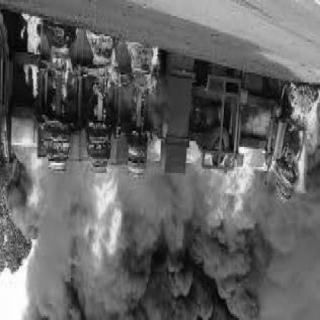Fire: (206, 173, 258, 241), (14, 153, 51, 235), (24, 13, 48, 101)
Smoke: (25, 192, 318, 320)
